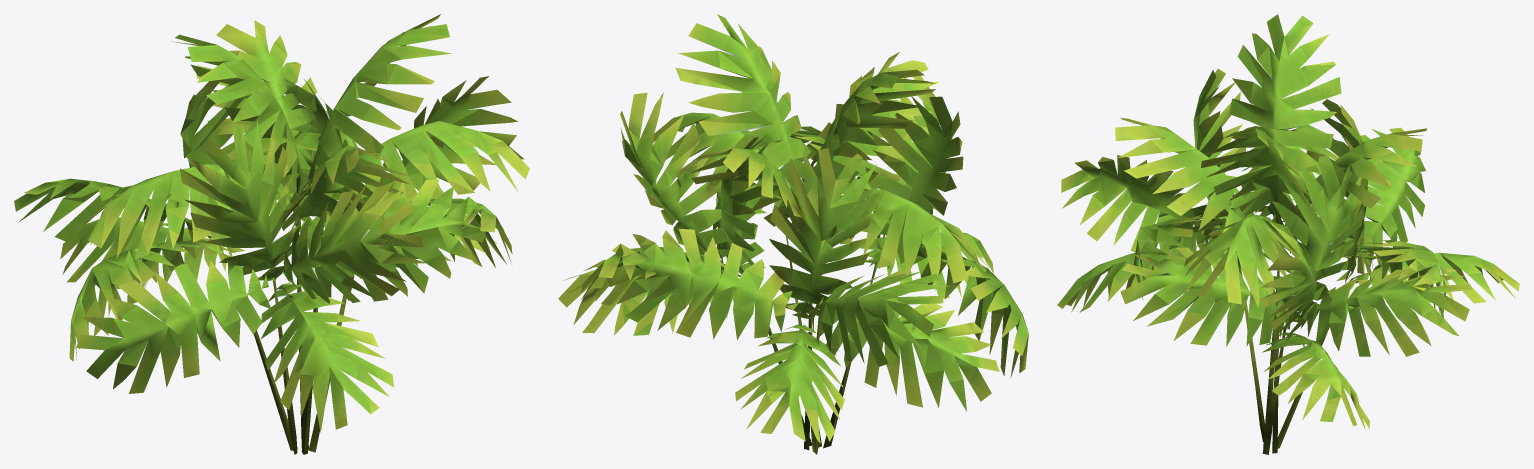
Rendered from IvoryCanePalmTree-512.c4d.fbx.
3 renders of one model, left to right at view 1: azimuth 30°, elevation 25°; view 2: azimuth 150°, elevation 25°; view 3: azimuth 270°, elevation 25°, orthographic. The views are drawn at different scales.
Visible parts, largest first — view 1: node_0_Default; view 2: node_0_Default; view 3: node_0_Default.
Boxes of the visible parts, x1=… form: node_0_Default: x1=14, y1=14, x2=529, y2=454; node_0_Default: x1=558, y1=14, x2=1028, y2=454; node_0_Default: x1=1057, y1=14, x2=1519, y2=454.
Size of the model in its own units: 10.63 by 9.63 by 10.38.
Materials: 1 (1 with a texture image).
